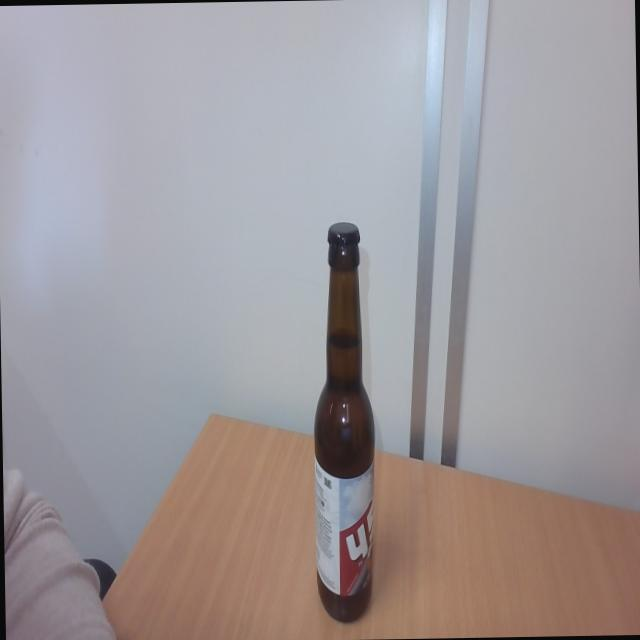Bottle: (308, 251, 376, 623)
Cap: (324, 219, 360, 251)
Label: (312, 460, 376, 596)
